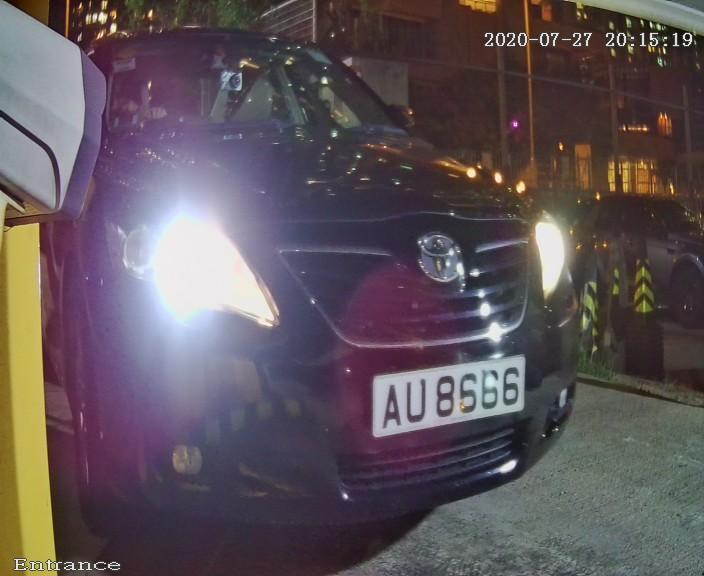privatecar: (57, 3, 585, 556)
